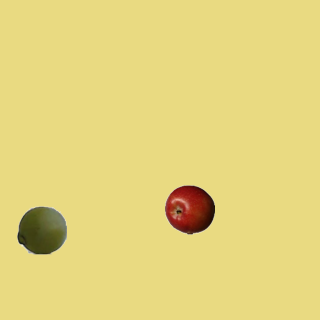Apple Braeburn: (164, 184, 214, 234)
Grape White 4: (16, 204, 66, 254)
